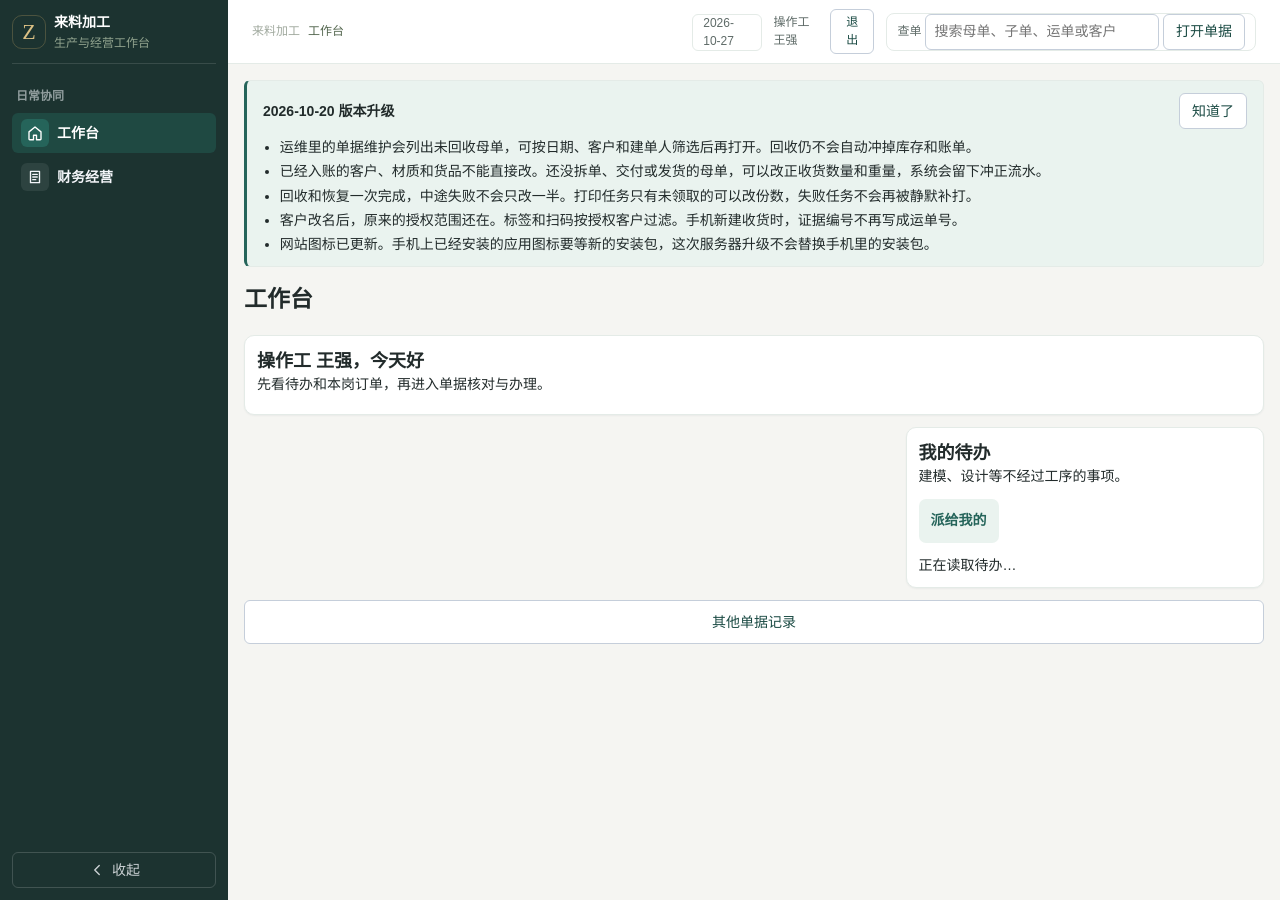
App › 页面按需加载后可正常切回首页
The image size is (1280, 900).
Click the button with class "nav-button" showing "财务经营".
click(114, 177)  # box x1=12 y1=157 x2=216 y2=197
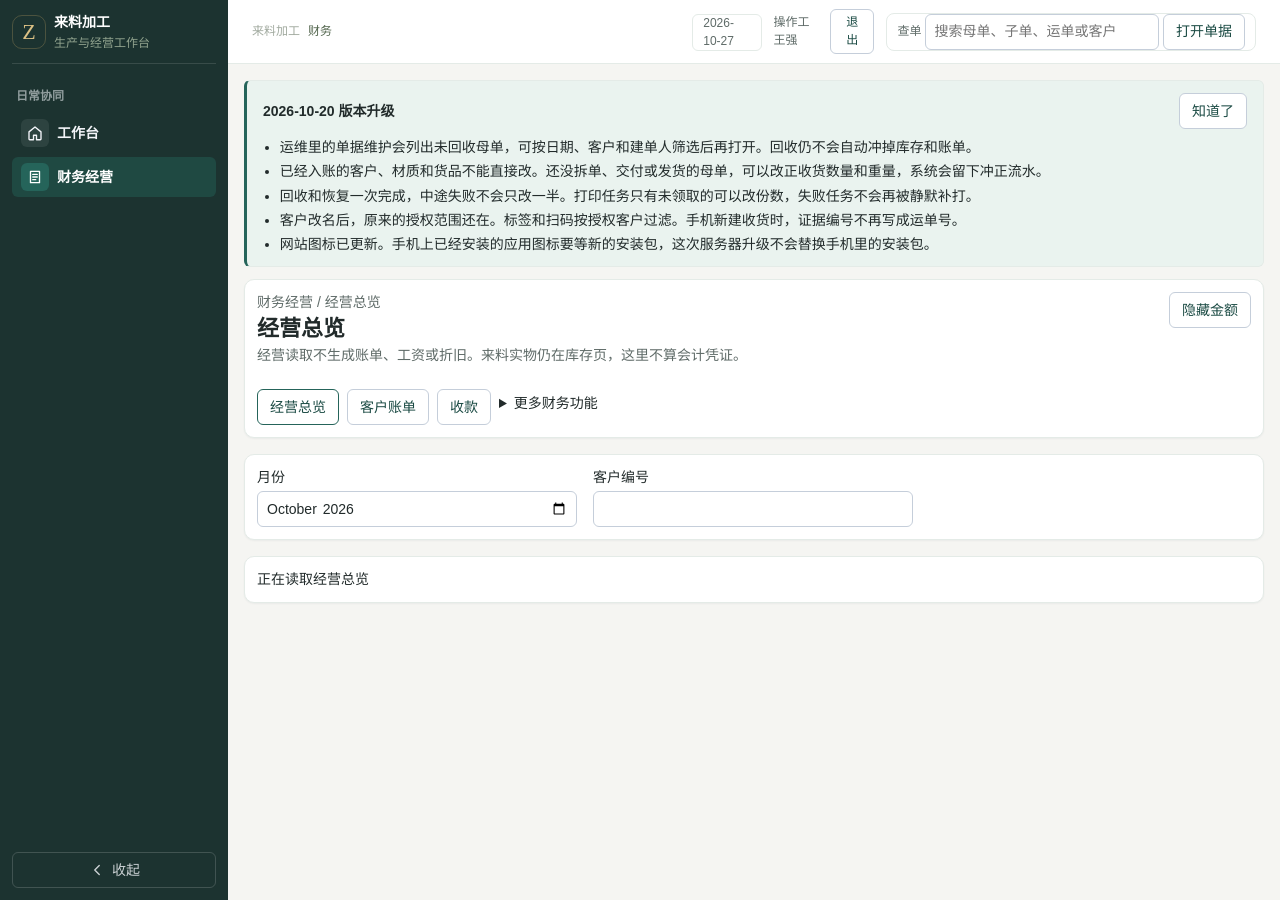
Now the element with class "finance-workspace" is shown, box x1=244 y1=280 x2=1264 y2=603
Click the button with class "nav-button" showing "工作台".
click(114, 133)  # box x1=12 y1=113 x2=216 y2=153
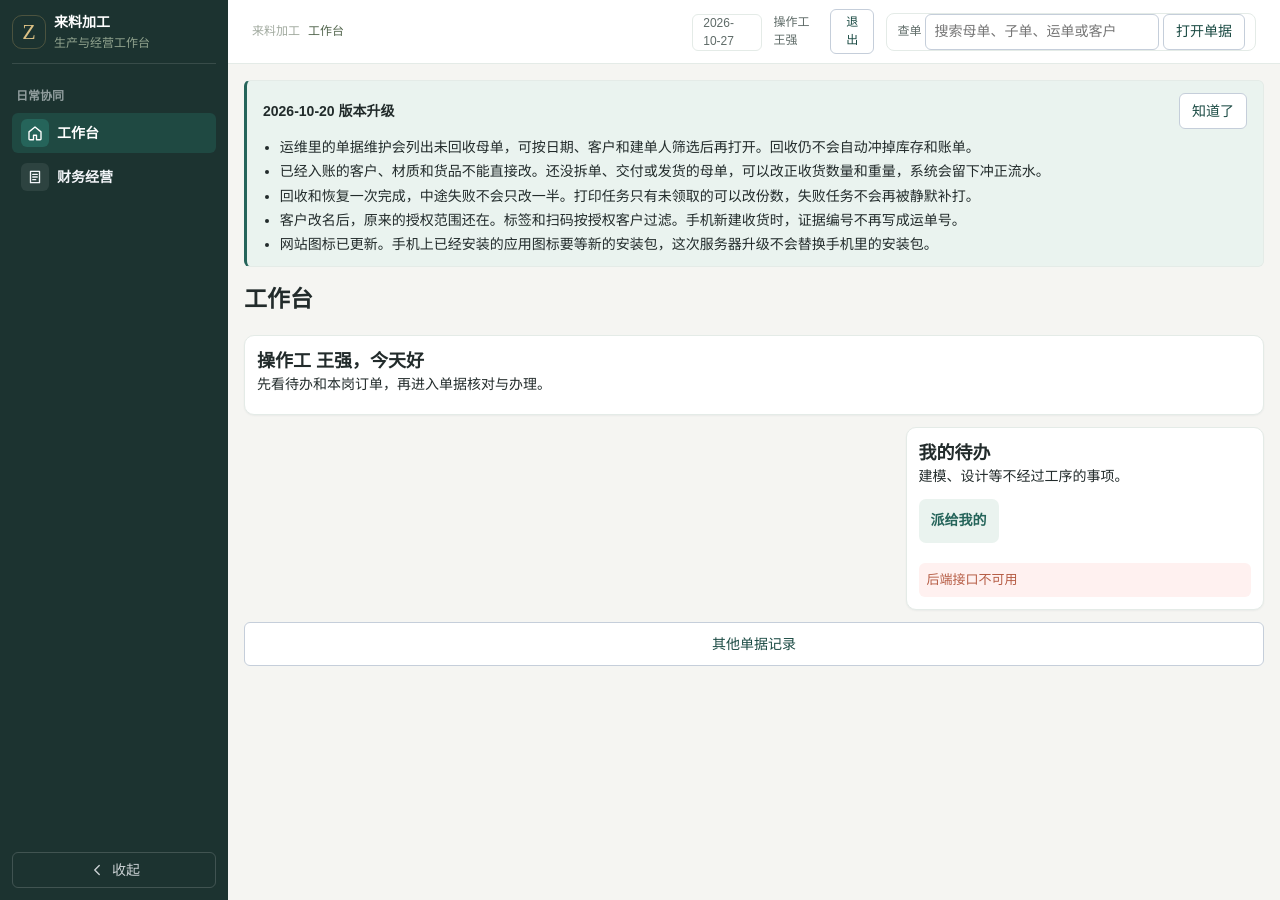
Now the text "今天好" is shown, box x1=257 y1=351 x2=424 y2=371
